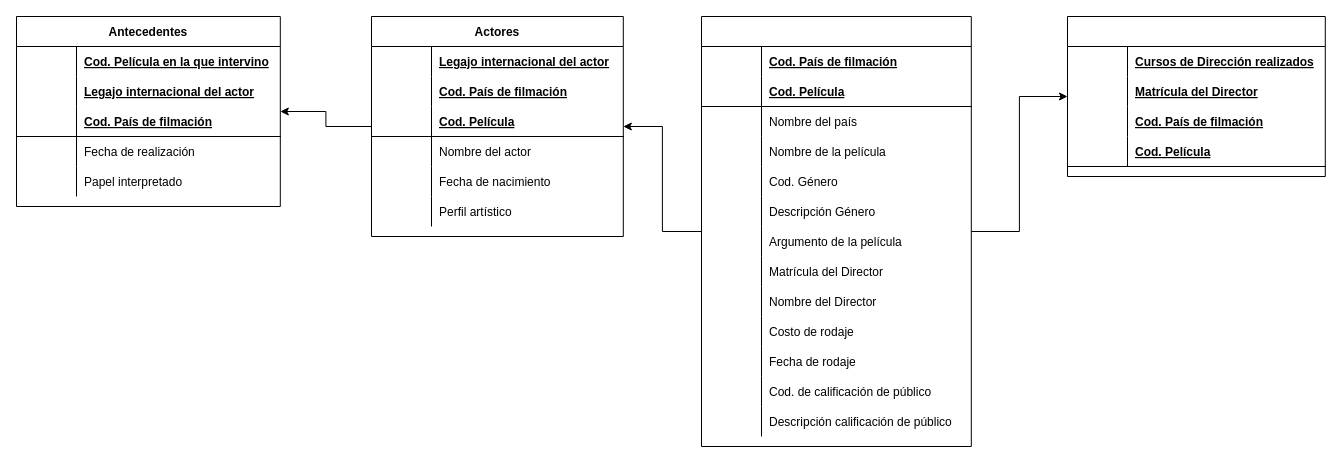
Image size: 1342x463. Some labels were removed from this diagram. Here are the shapes that lost their labels. From the top down, the box of each, then its label:
(1066, 16, 1325, 176): CursosDireccion
(700, 16, 971, 446): Peliculas
